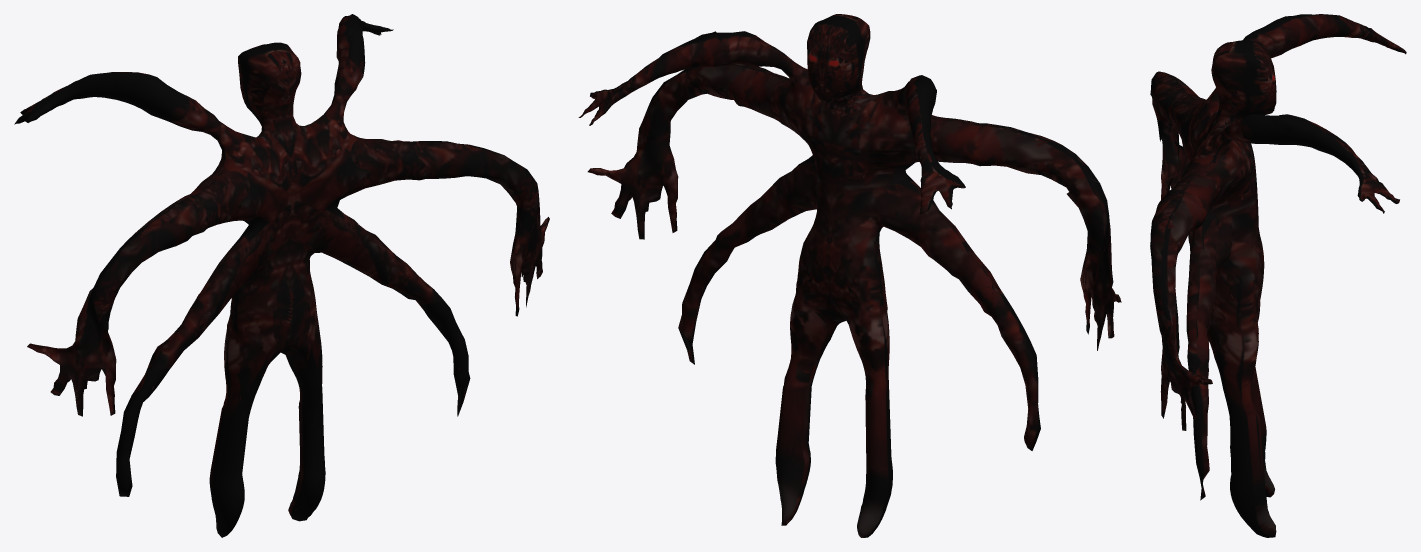
Rendered from monstruo_version2.fbx.
The picture shows the model from 3 angles, left to right: view 1: azimuth 30°, elevation 25°; view 2: azimuth 150°, elevation 25°; view 3: azimuth 270°, elevation 25°; orthographic projection. The views are drawn at different scales.
Parts seen in each view (by area): view 1: monstruo; view 2: monstruo; view 3: monstruo.
Boxes of the visible parts, <box> form: monstruo: <box>14,14,549,537</box>; monstruo: <box>578,14,1121,537</box>; monstruo: <box>1150,14,1406,537</box>.
Bounding box in the file's own units: 477 × 430 × 211.
Materials: 1 (1 with a texture image).
